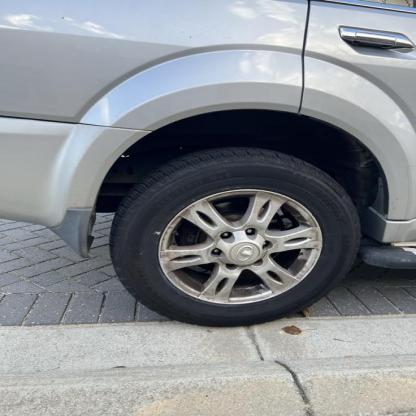Tire: (108, 146, 364, 327)
